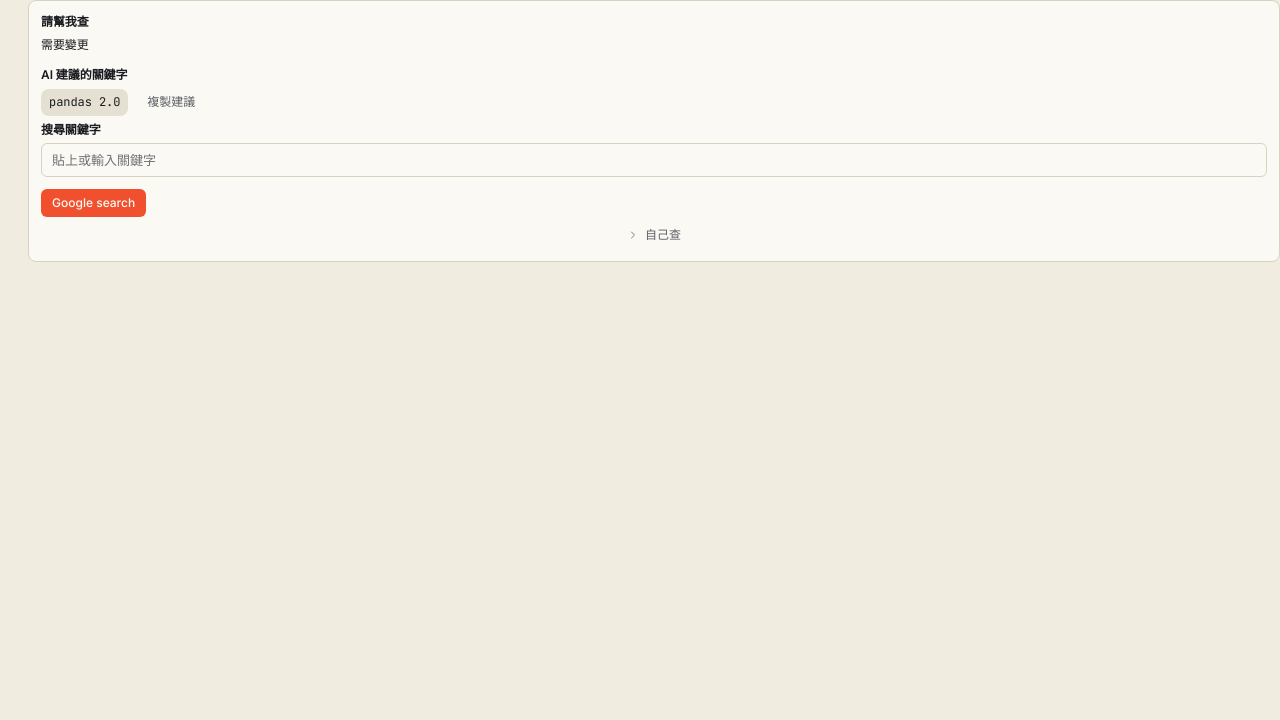
a search, with the helper connected › asks only for the nod; doing it by hand is one step away
Expected: the button "Google search" is shown, [41,189,146,217]
Click the button "自己查".
click(654, 235)  # box [41,221,1267,249]
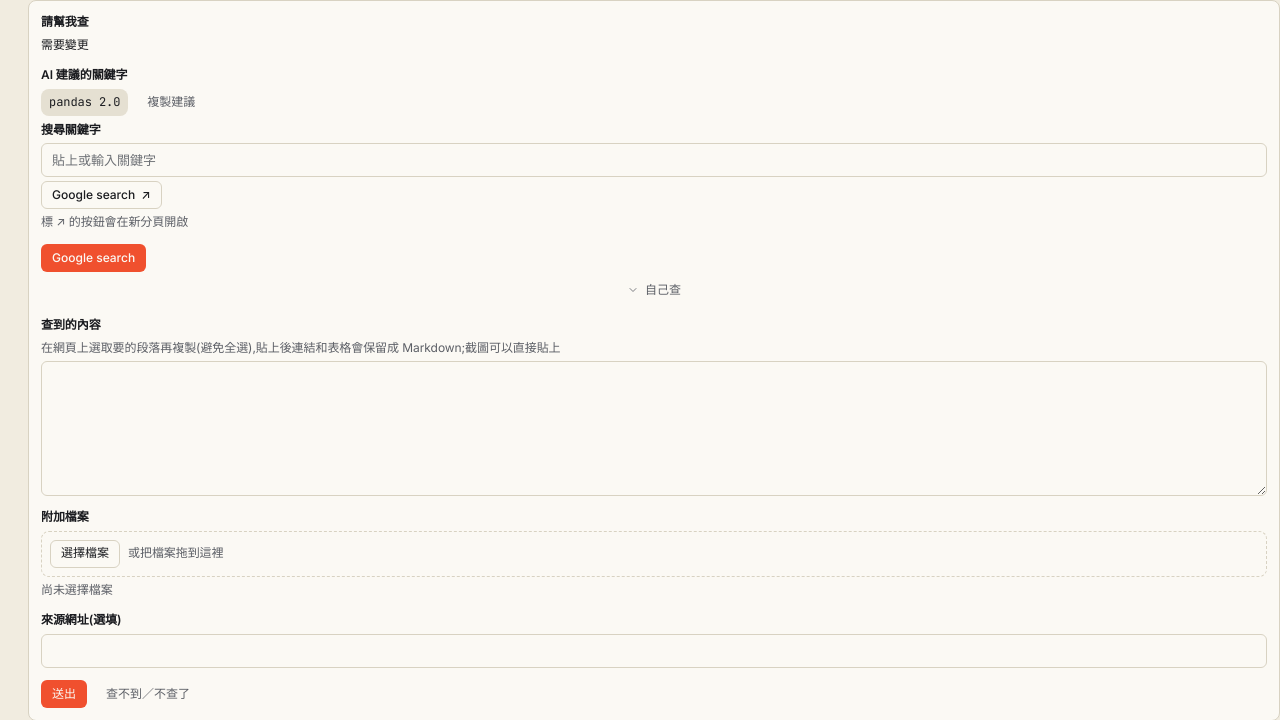
Result: the button with aria-label "Google search(在新分頁開啟)" is shown at [41,181,162,209]
